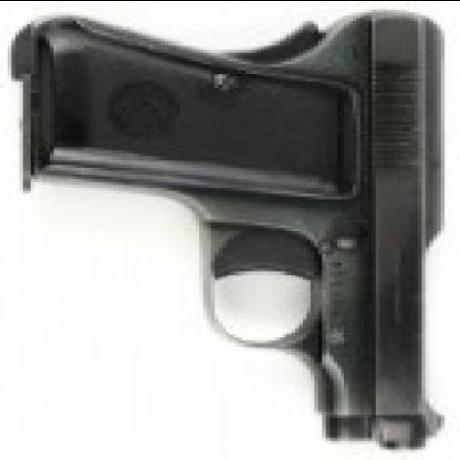weapon: (19, 11, 450, 451)
